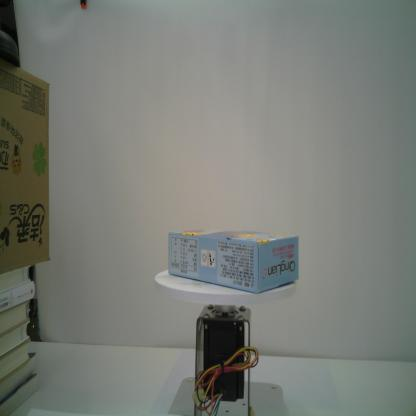Dessert: (166, 223, 300, 294)
